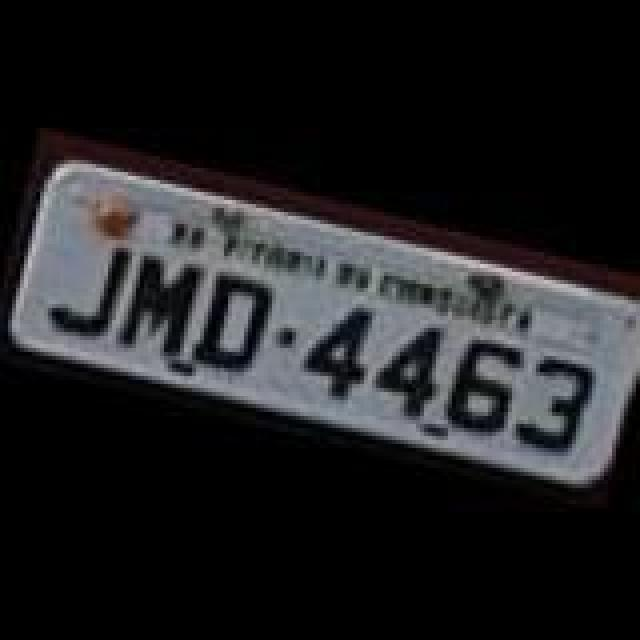3: (504, 342, 600, 458)
4: (288, 284, 384, 404), (364, 302, 452, 418)
6: (436, 326, 532, 442)
D: (184, 260, 280, 380)
J: (36, 228, 132, 348)
M: (112, 244, 208, 364)
